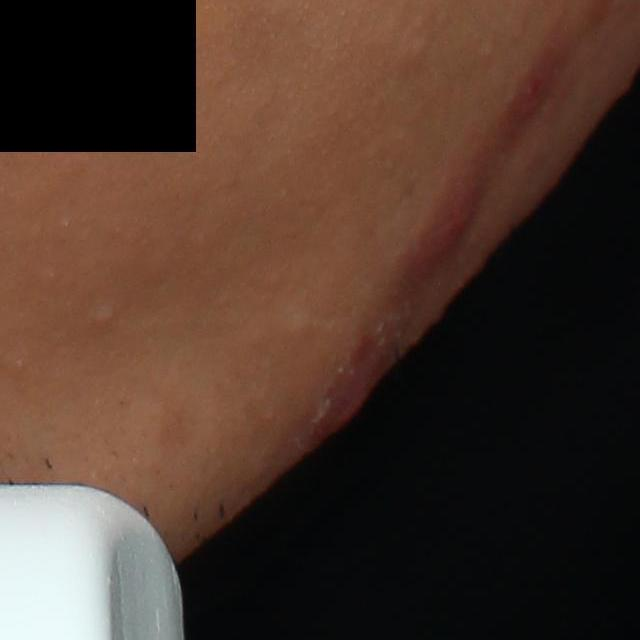comedo: (91, 298, 120, 330), (402, 35, 433, 63)
papule: (407, 173, 494, 282), (324, 346, 387, 438), (509, 72, 557, 127)
